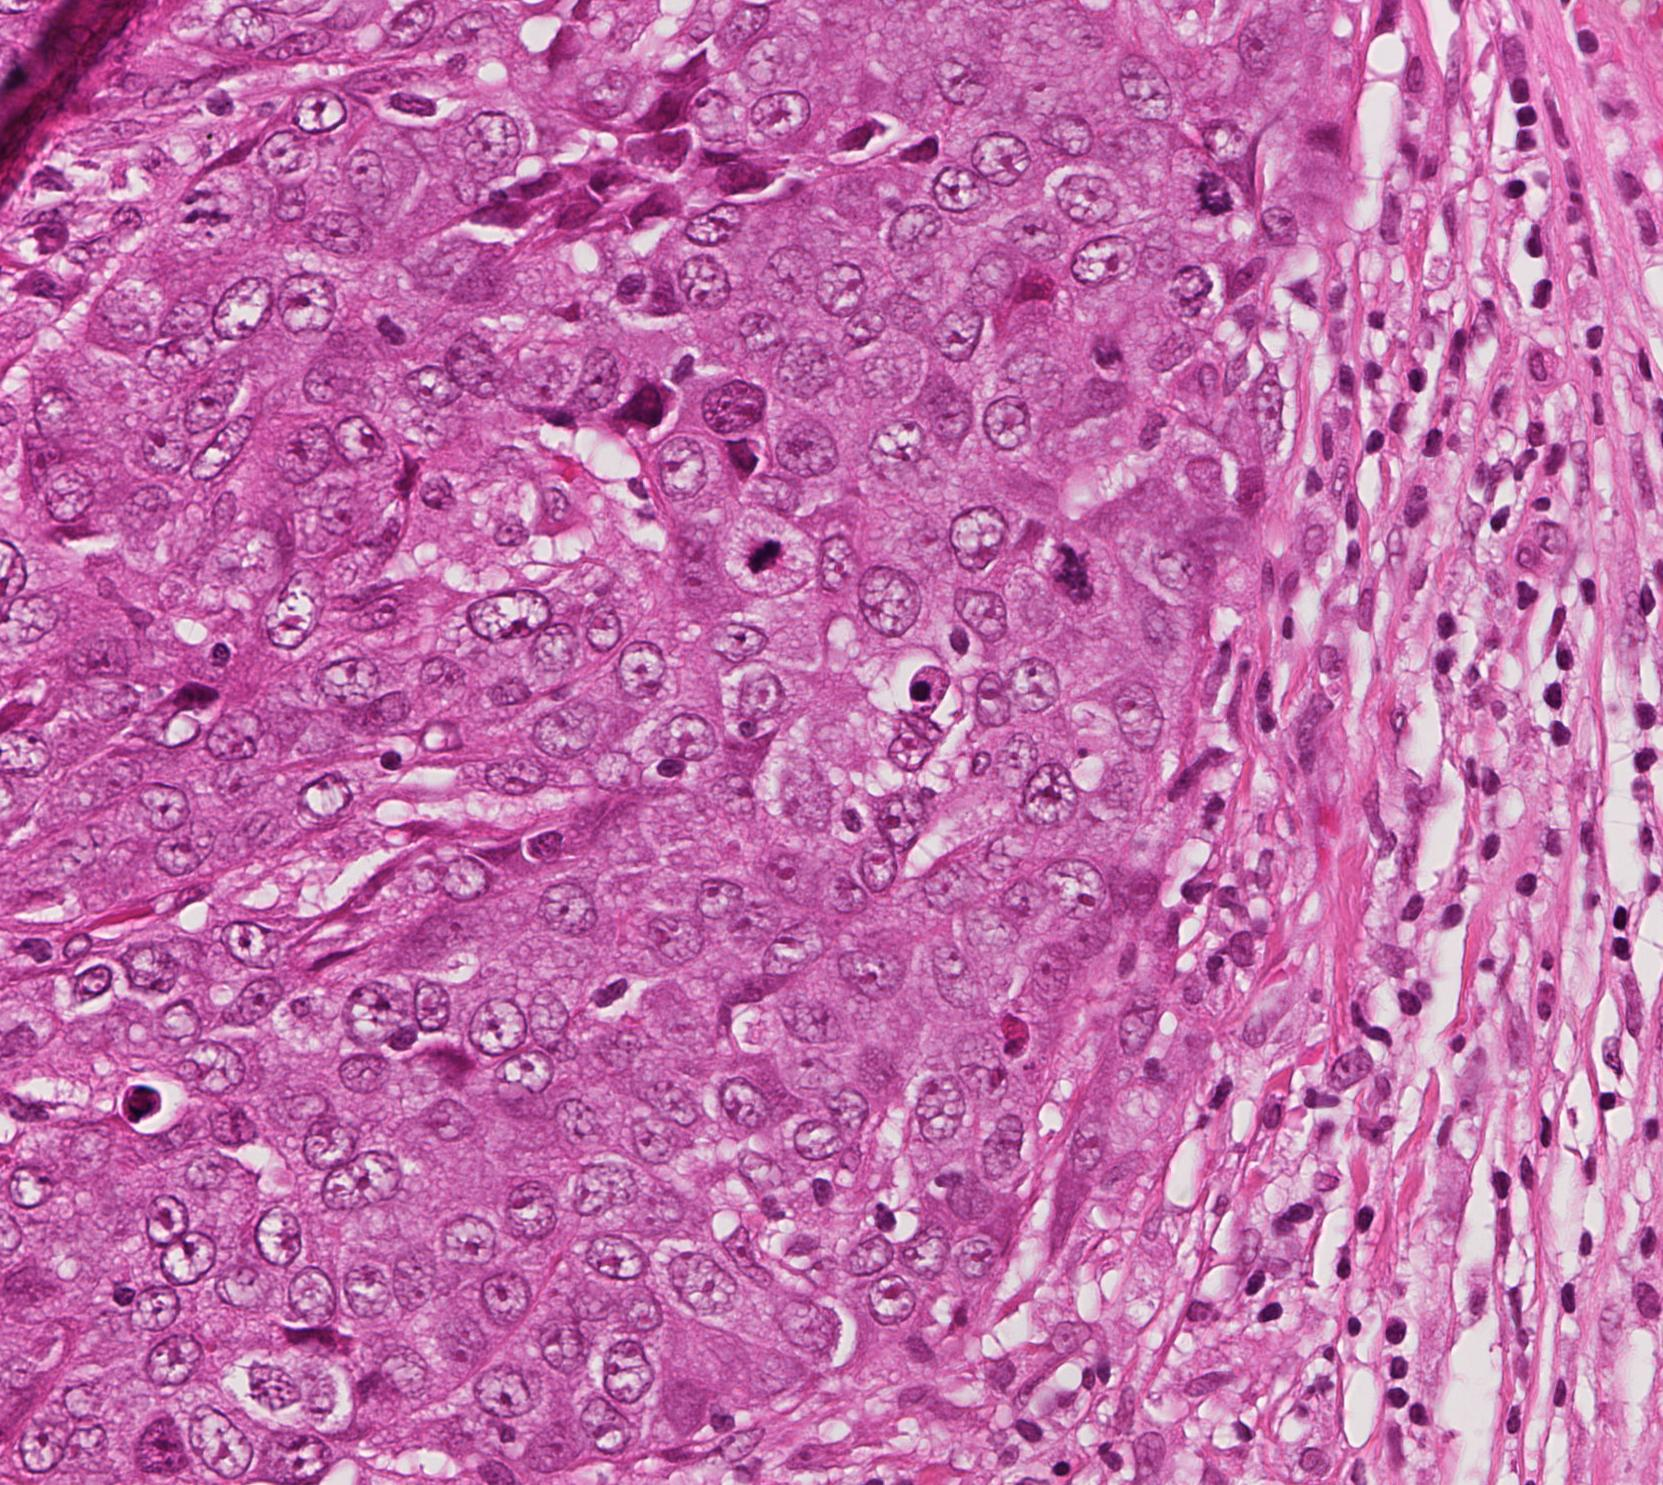mitosis: (735, 510, 796, 570), (1178, 156, 1239, 216), (1042, 538, 1102, 598), (192, 176, 252, 237)
